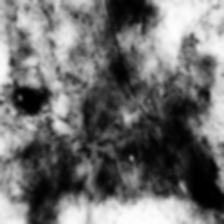Potentially Malignant Skin Tumors: (53, 0, 224, 205)
